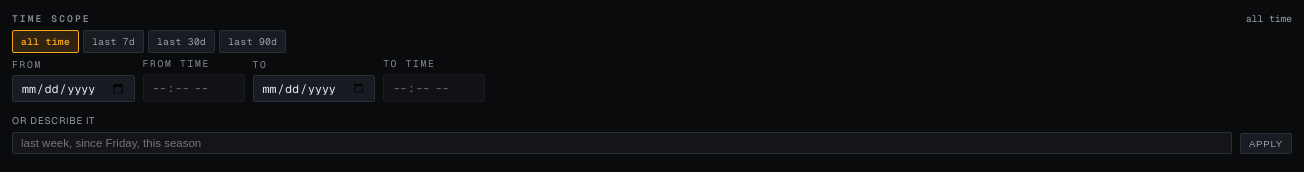
NarrowTimeScope custom range › offers Clear dates only while a bound is set, and resets everything with it
Expected: the button "Clear dates" is not shown
In the date field labelled "From": coordinates (73, 88) [12,75,134,102], type "2026-01-07"
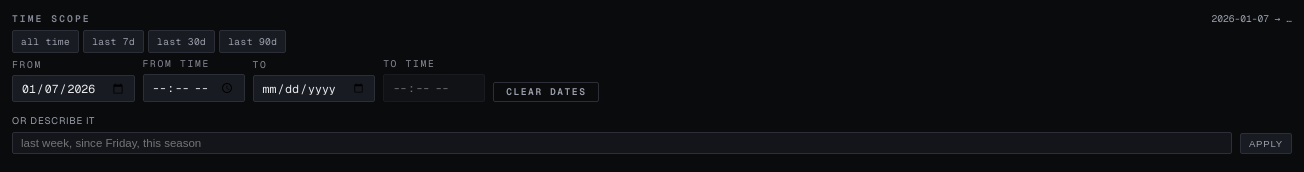
In the time field labelled "From time": coordinates (194, 88) [142,74,245,102], type "11:00"
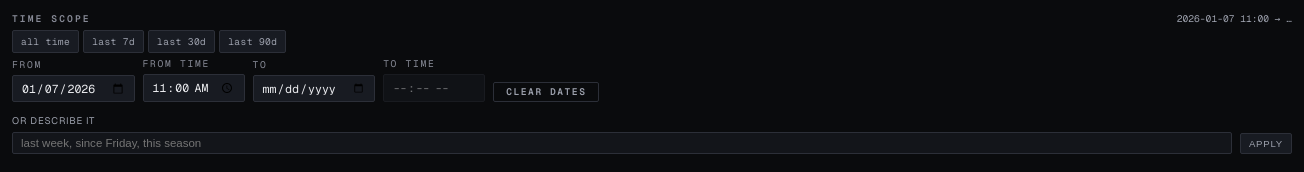
Click the button "Clear dates": coordinates (546, 92) [493,82,599,102]
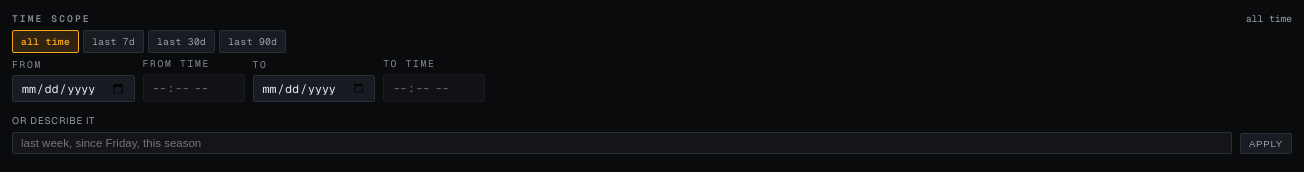
Expected: the button "Clear dates" is gone
